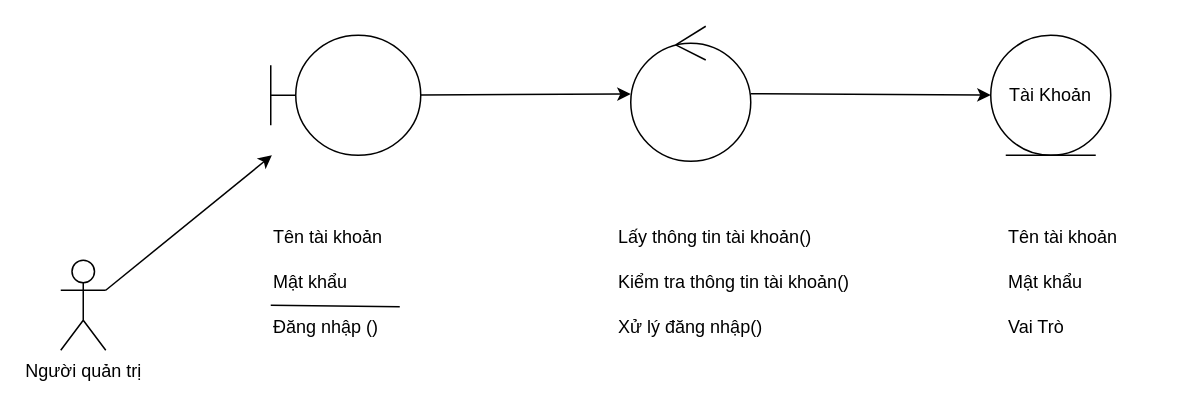
Image size: 1182x408. Some labels were removed from this diagram. Each missing label, with the centre of its shape:
"CTL_Đăng Nhập" goes at (690,93).
"GUI_Đăng Nhập" goes at (345,94).
